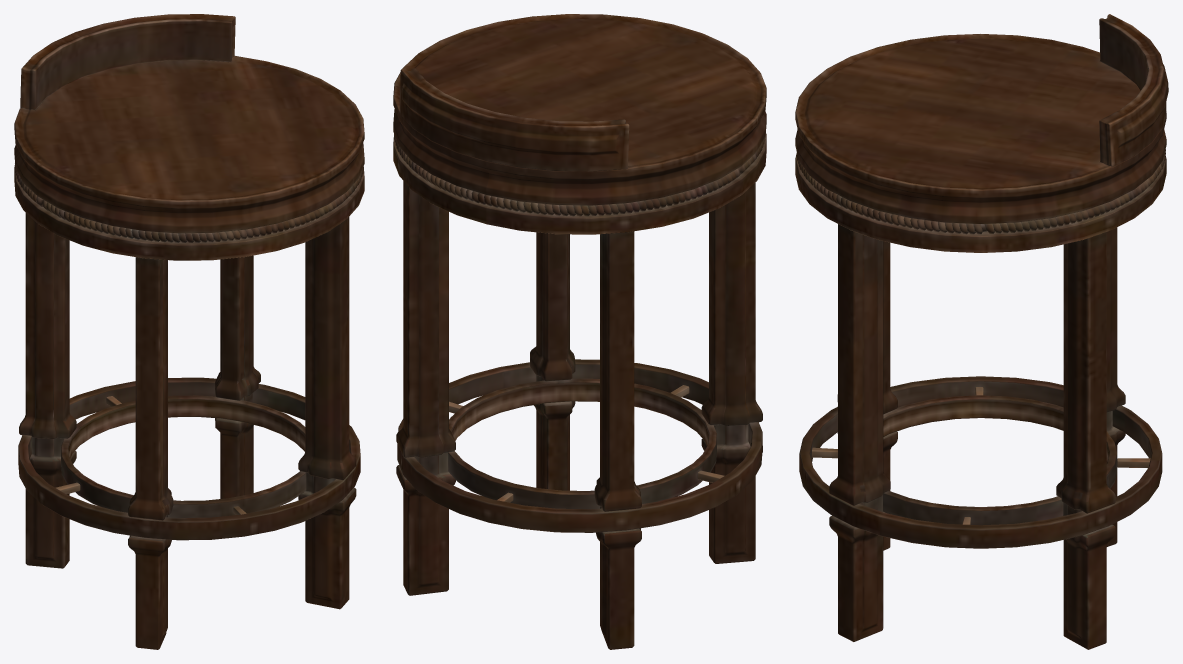
Rendered from bar_stool.glb.
The picture shows the model from 3 angles, left to right: view 1: azimuth 30°, elevation 25°; view 2: azimuth 150°, elevation 25°; view 3: azimuth 270°, elevation 25°; orthographic projection. The views are drawn at different scales.
Parts seen in each view (by area): view 1: bar_chair_round_01; view 2: bar_chair_round_01; view 3: bar_chair_round_01.
Boxes of the visible parts, bbox=[...] form: bar_chair_round_01: bbox=[14, 14, 364, 649]; bar_chair_round_01: bbox=[393, 14, 766, 649]; bar_chair_round_01: bbox=[795, 14, 1168, 649].
Size of the model in its own units: 0.4831 by 0.7505 by 0.486.
Materials: 1 (1 with a texture image).
